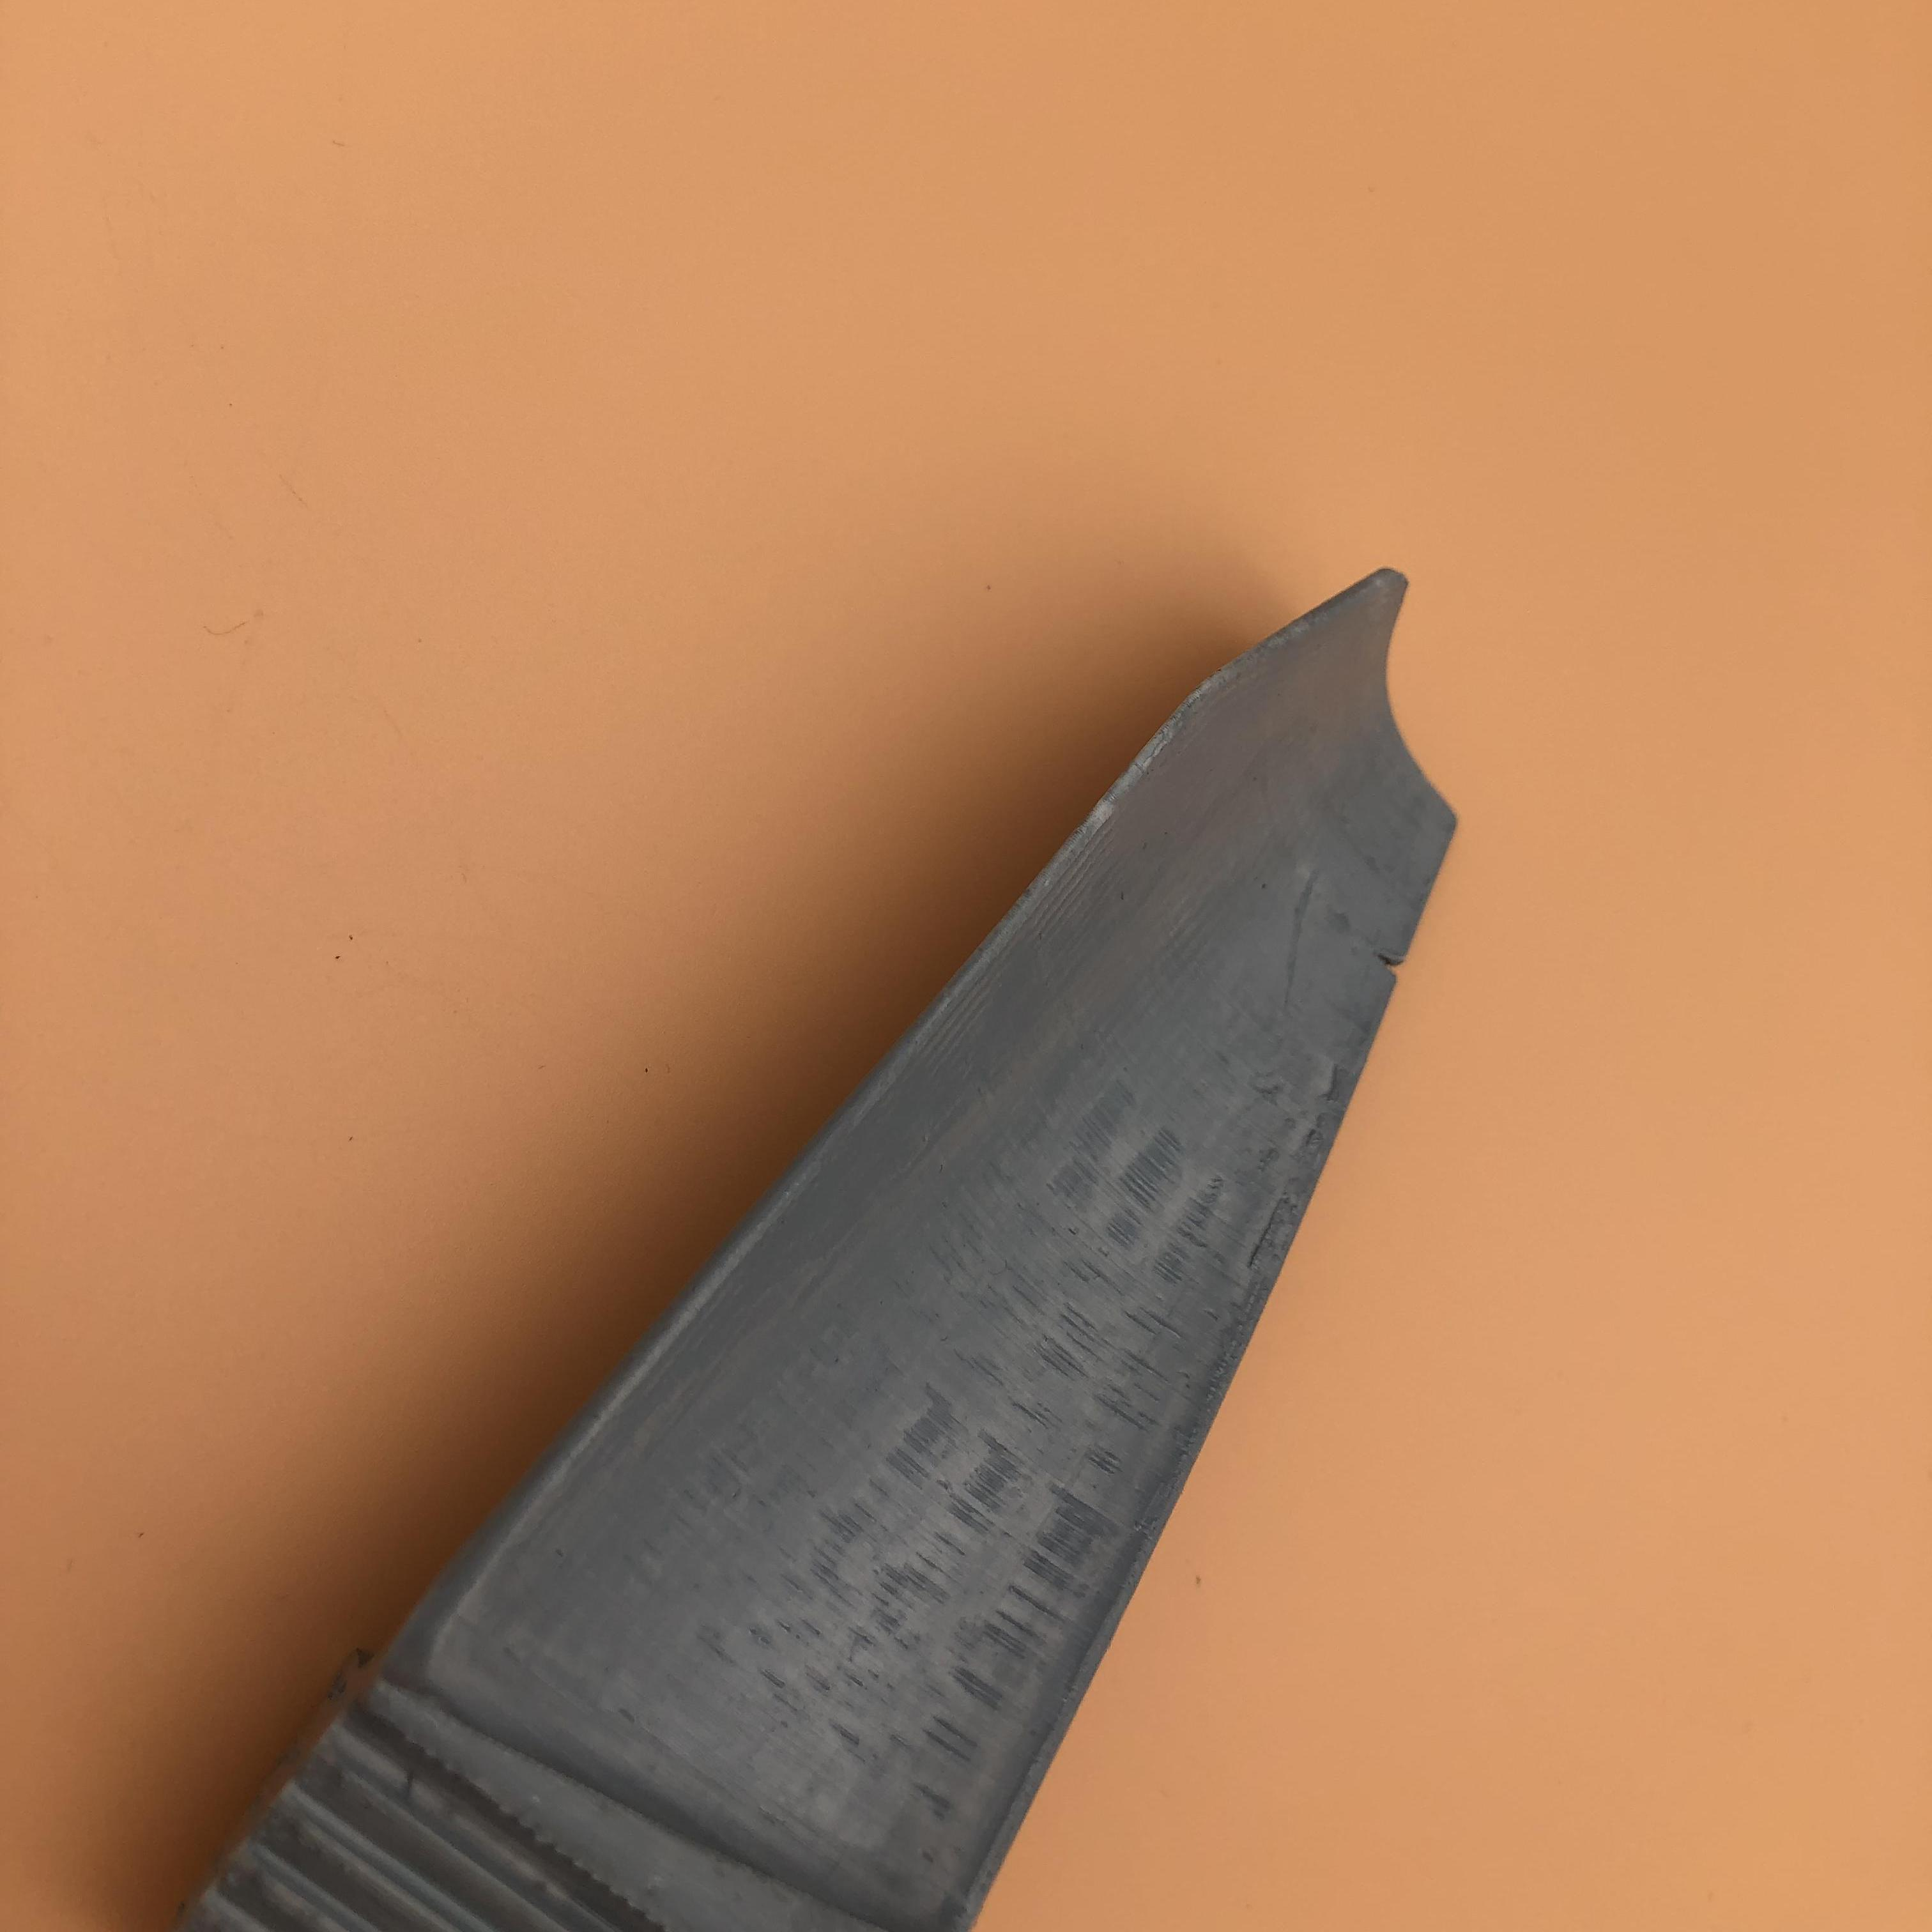groove: (1376, 945, 1414, 991)
